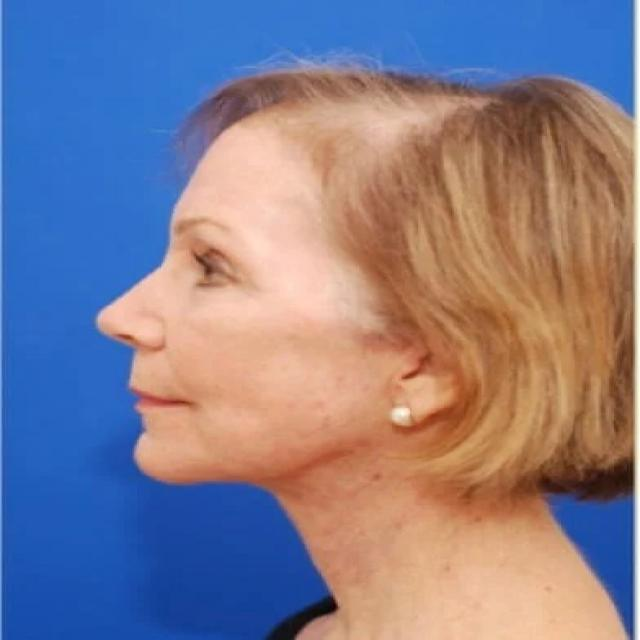Healthy: (280, 441, 621, 640)
